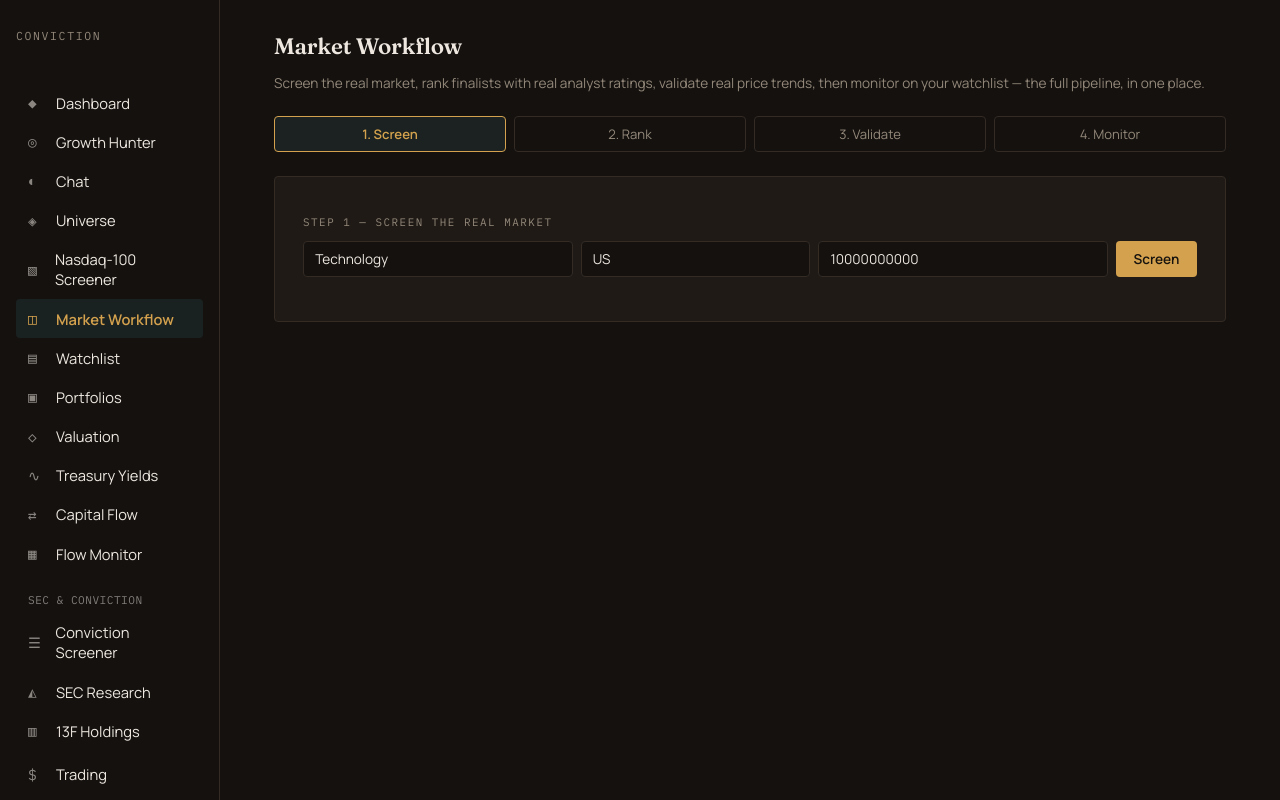
Test case: Market Workflow page › clicking Rank moves to Step 2 and shows real analyst ratings
Click the button "Screen" at point(1156, 260), box [1116, 242, 1197, 278]
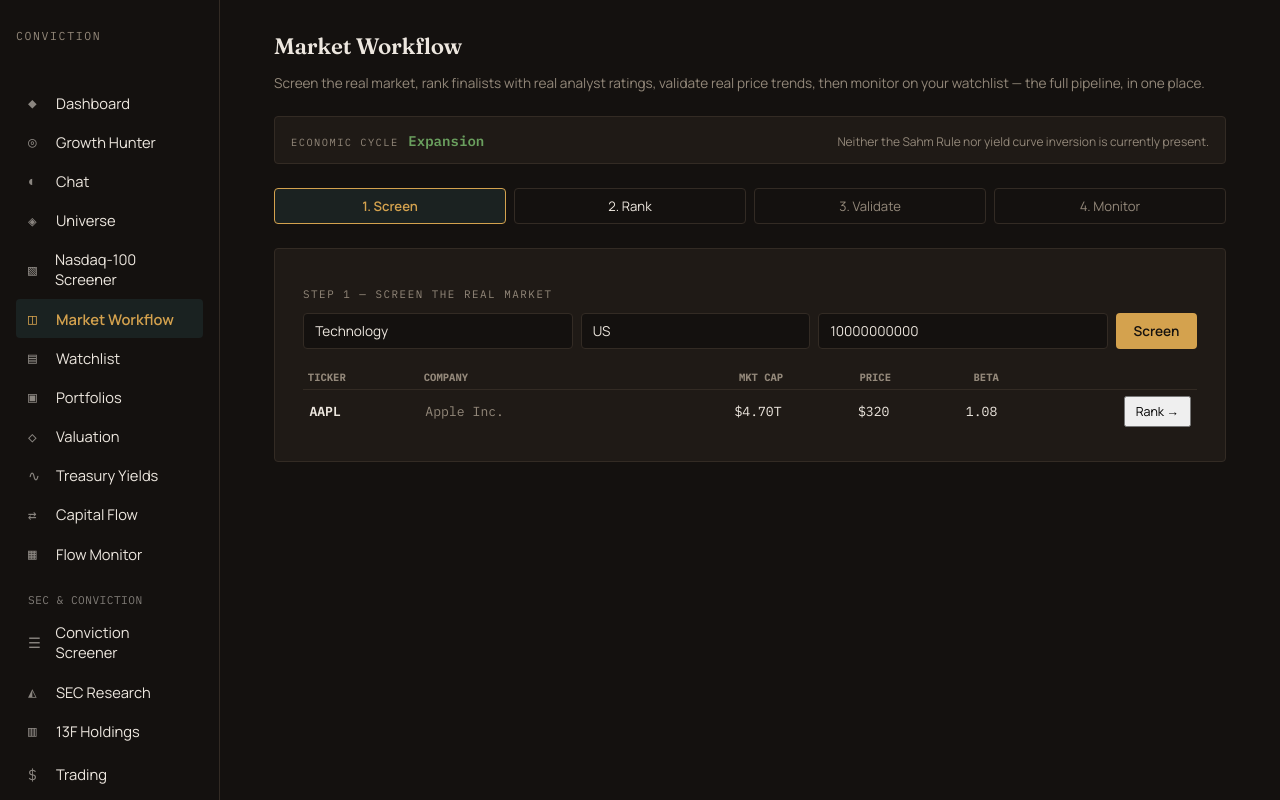
Result: the button "Rank →" is shown
Click the button "Rank →" at point(1157, 412), box [1124, 396, 1191, 427]
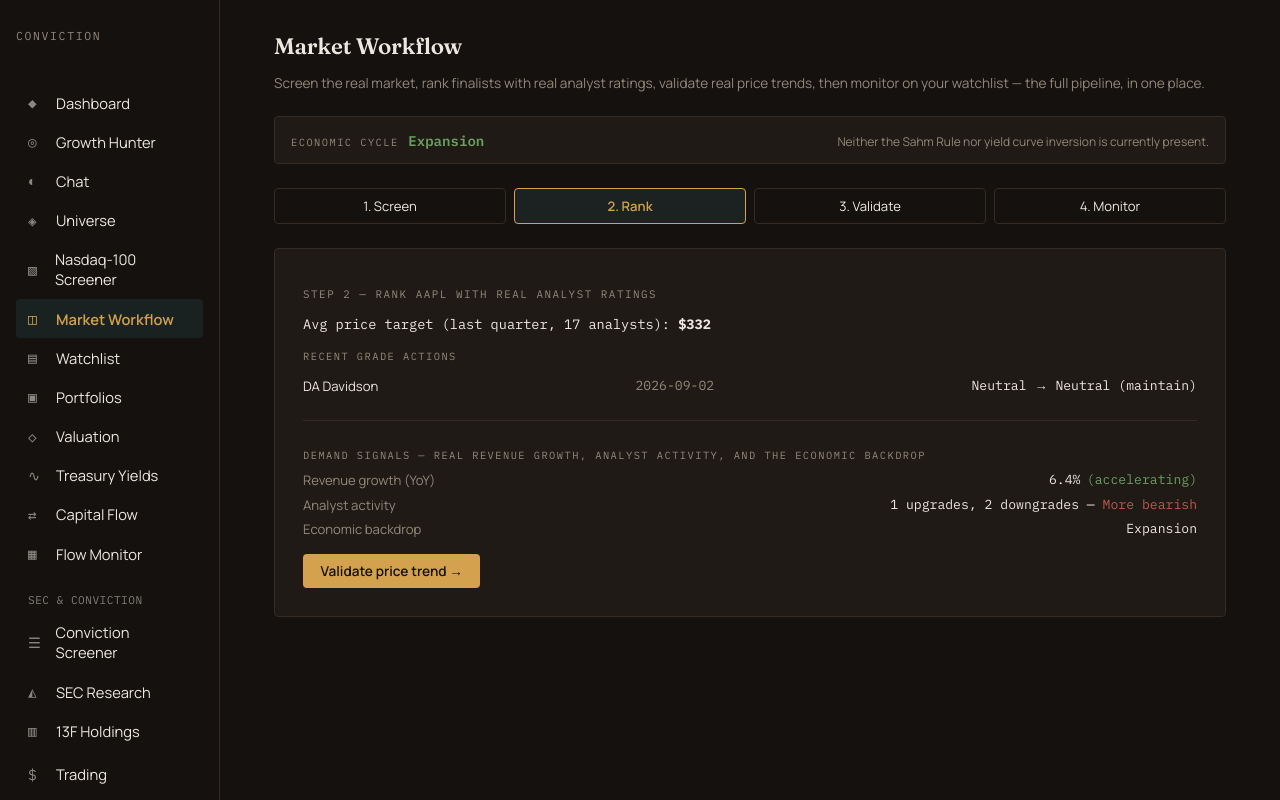
Result: the text "DA Davidson" is shown at [303, 377, 378, 395]
Result: the text "Avg price target (last quarter, 17 analysts): $332" is shown at [303, 315, 711, 333]
